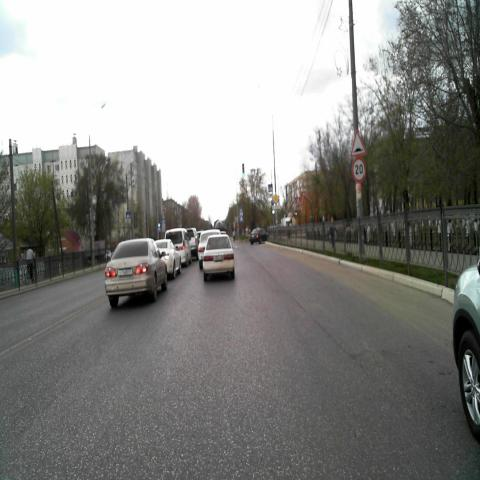1_17: (350, 130, 366, 156)
2_1: (273, 193, 279, 204)
3_24: (351, 158, 365, 183)
